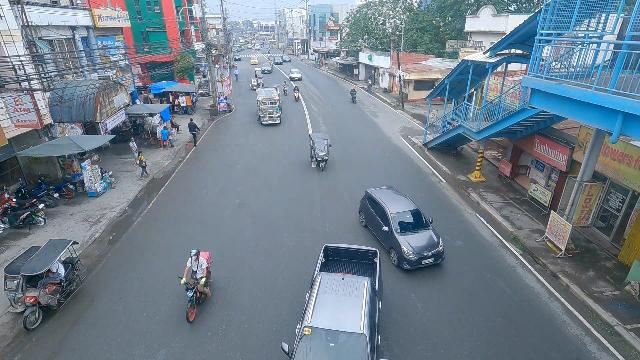car: (356, 186, 448, 272), (287, 69, 302, 81), (260, 63, 273, 74), (253, 68, 264, 80), (273, 56, 283, 65), (250, 55, 259, 65), (282, 54, 291, 63), (233, 53, 241, 61)
jeepney: (255, 87, 282, 126)
motorcycle: (178, 249, 212, 323), (292, 84, 300, 102), (350, 86, 357, 104), (282, 79, 289, 96), (269, 60, 273, 67), (268, 52, 271, 60), (268, 45, 271, 51)
pickup-truck: (285, 242, 383, 360)
